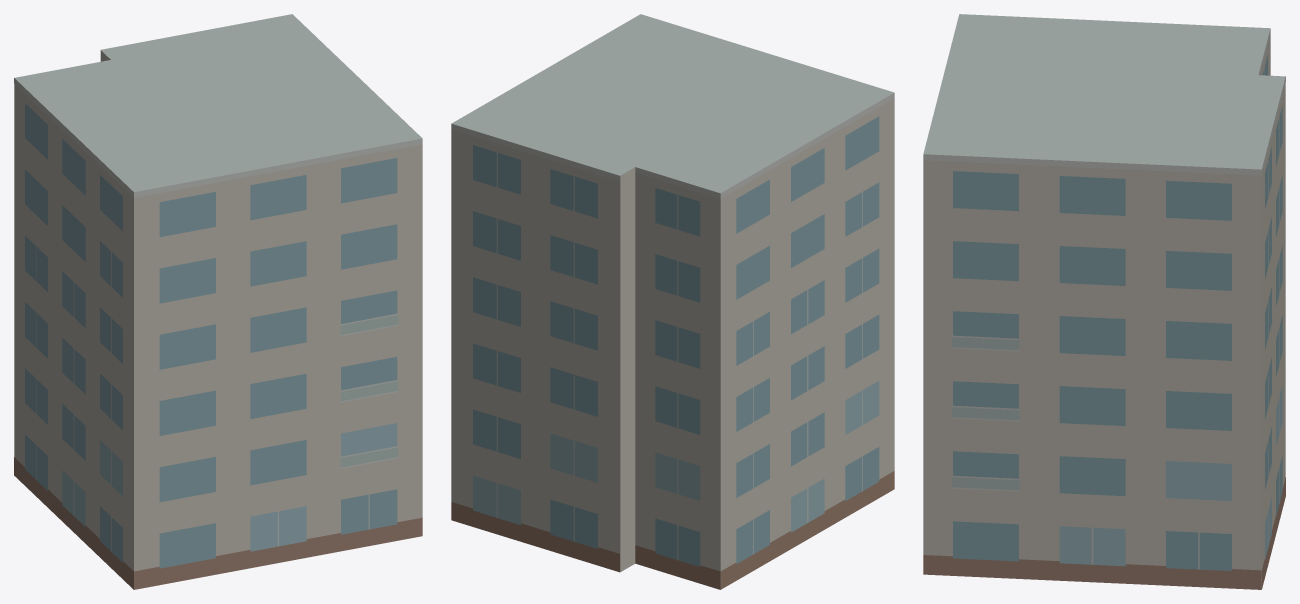
File: survey-upis-32665670.glb
The picture shows the model from 3 angles, left to right: view 1: azimuth 30°, elevation 25°; view 2: azimuth 150°, elevation 25°; view 3: azimuth 270°, elevation 25°; orthographic projection. The views are drawn at different scales.
Visible parts, largest first — view 1: survey-upis-32665670.tmp; view 2: survey-upis-32665670.tmp; view 3: survey-upis-32665670.tmp.
Boxes of the visible parts, <box> form: survey-upis-32665670.tmp: <box>14,14,422,589</box>; survey-upis-32665670.tmp: <box>451,14,894,589</box>; survey-upis-32665670.tmp: <box>923,14,1285,589</box>.
Bounding box in the file's own units: 13.5 × 17 × 13.29.
